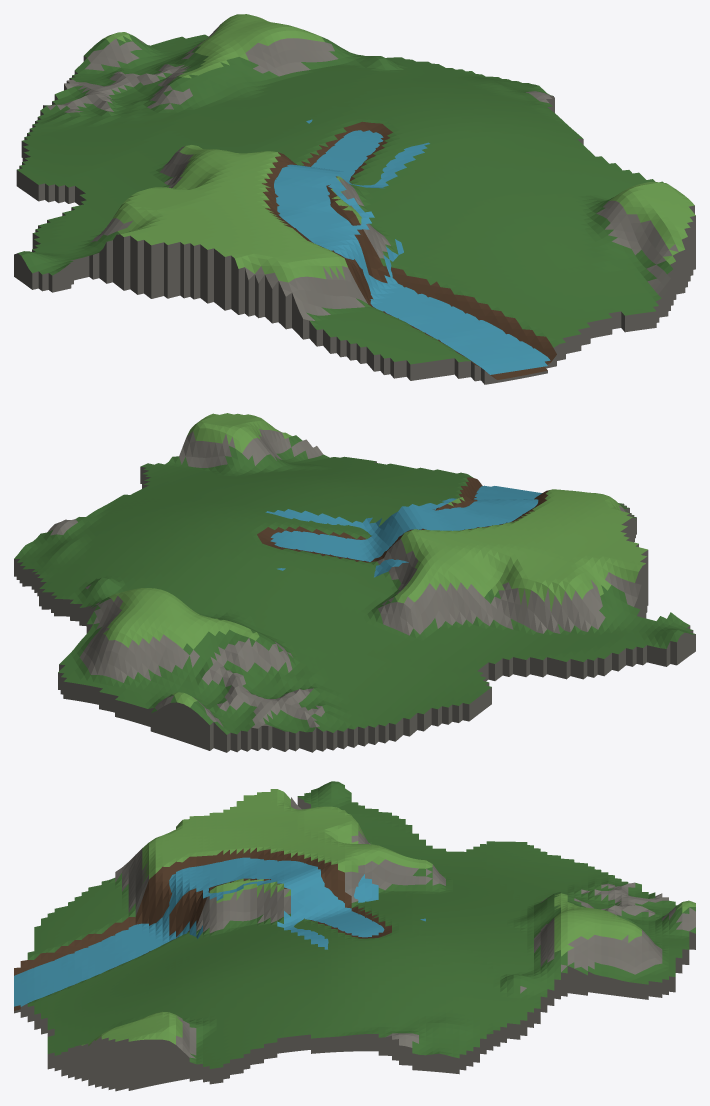
The model's file is stage1_nature_forest_terrain.glb.
3 views of the same model, one above another, from view 1: azimuth 30°, elevation 25°; view 2: azimuth 150°, elevation 25°; view 3: azimuth 270°, elevation 25° (orthographic). The views are drawn at different scales.
Visible parts, largest first — view 1: woodland, water; view 2: woodland, water; view 3: woodland, water.
Boxes of the visible parts, left/top/right/bottom form: woodland: left=14, top=14, right=695, bottom=384; water: left=274, top=119, right=550, bottom=374; woodland: left=14, top=413, right=695, bottom=752; water: left=265, top=485, right=541, bottom=577; woodland: left=14, top=781, right=695, bottom=1091; water: left=14, top=857, right=425, bottom=1006.
Bounding box in the file's own units: 92 × 17.93 × 101.
